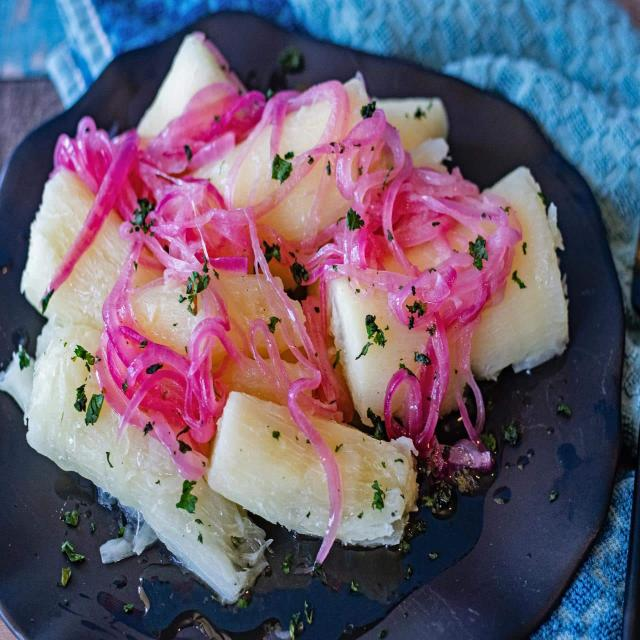yuca: (200, 380, 422, 552)
